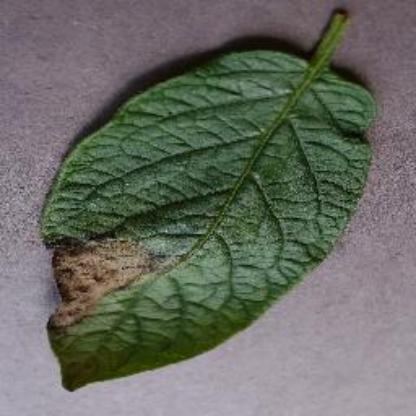Late-Blight: (32, 9, 378, 395)
